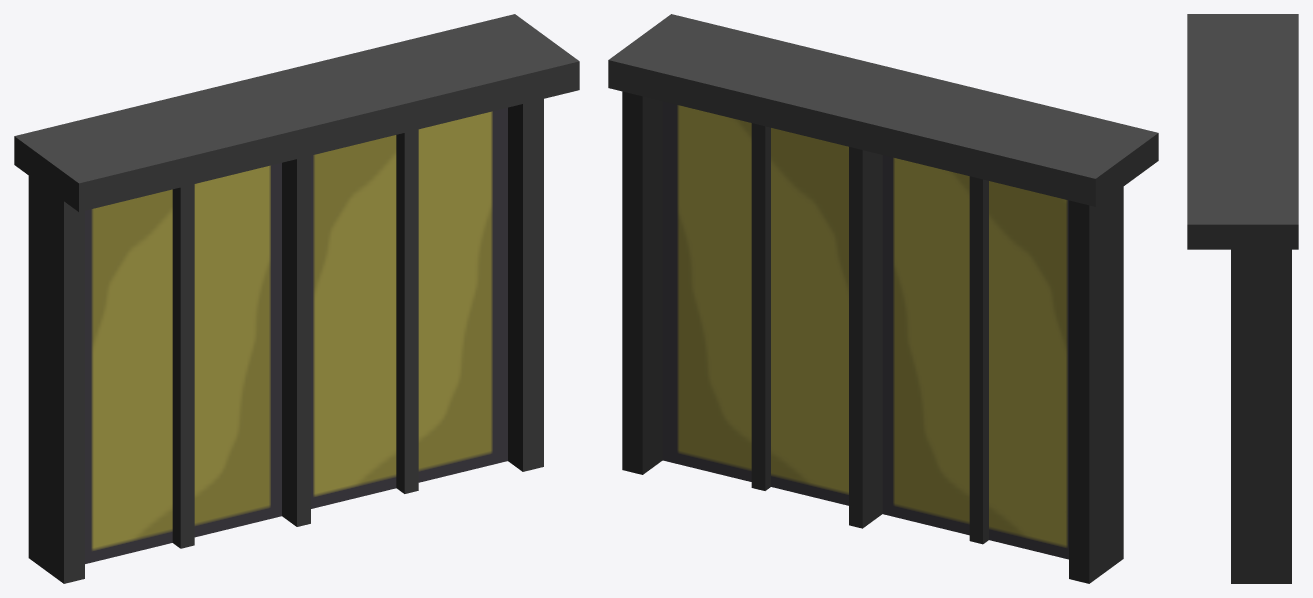
Rendered from Door_01.fbx.
3 views of the same model, side by side, from view 1: azimuth 30°, elevation 25°; view 2: azimuth 150°, elevation 25°; view 3: azimuth 270°, elevation 25° (orthographic). The views are drawn at different scales.
Parts seen in each view (by area): view 1: Door_01; view 2: Door_01; view 3: Door_01.
Boxes of the visible parts, x1,y1,x2,y2 form: Door_01: (14, 14, 579, 583); Door_01: (608, 14, 1158, 583); Door_01: (1187, 14, 1298, 583).
Size of the model in its own units: 414 by 333 by 92.59.
Materials: 1 (1 with a texture image).
